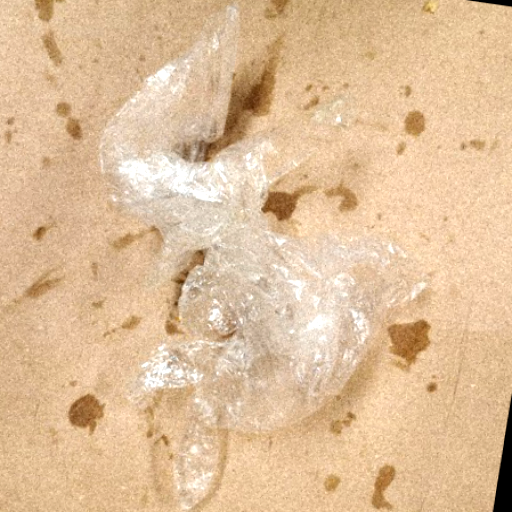vinyl_s: (58, 10, 426, 505)
